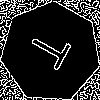T: (25, 27, 80, 76)
